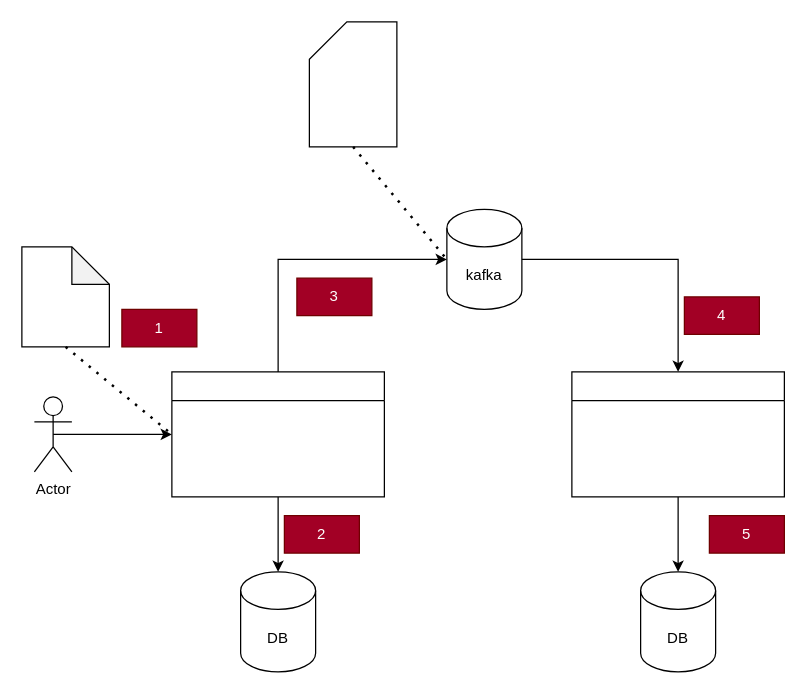
Some shapes in this 806 by 694 pixel diagram are drawn without their labels. Each missing label, with the centre of its shape:
"ca_proposal const_ca_proposal tmp_ca_proposal" belongs at point (352, 84).
"iuch-etl" belongs at point (277, 434).
"iuch-metric-aggr" belongs at point (677, 434).
